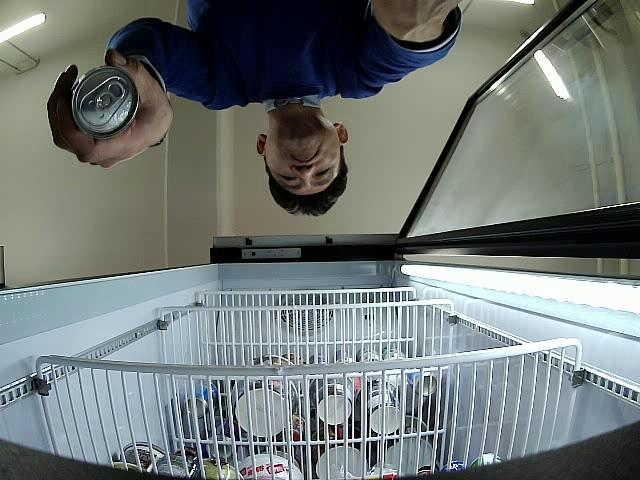00_hand: (46, 50, 174, 170)
